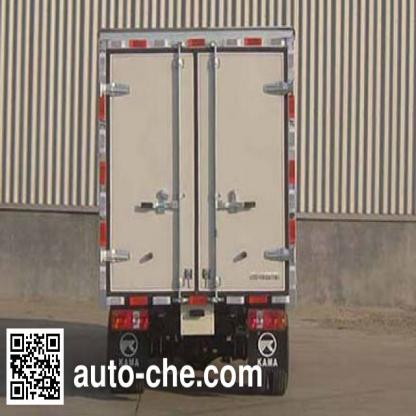normal-truck: (92, 17, 312, 354)
